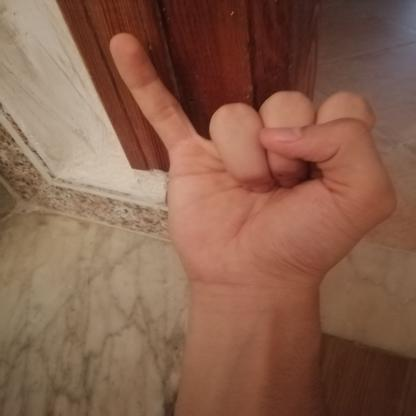MEEM: (90, 22, 409, 307)
